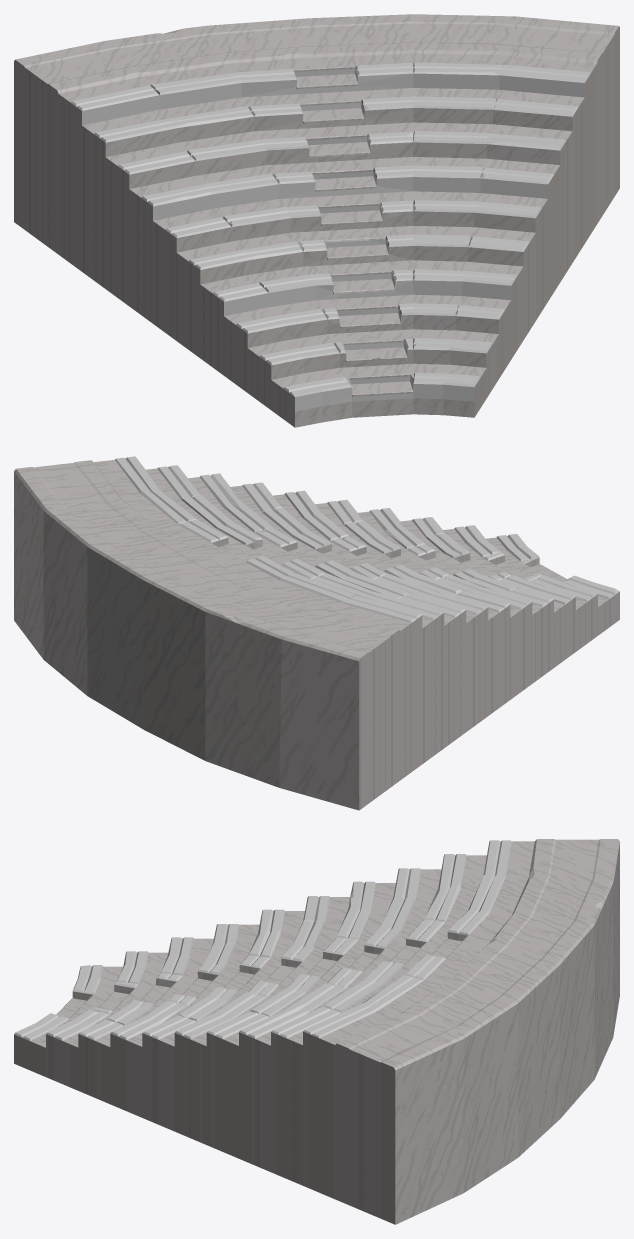
Rendered from SM_Bld_Amphitheatre_01.fbx.
3 renders of one model, top to bottom at view 1: azimuth 30°, elevation 25°; view 2: azimuth 150°, elevation 25°; view 3: azimuth 270°, elevation 25°, orthographic. The views are drawn at different scales.
Parts seen in each view (by area): view 1: SM_Bld_Amphitheatre_01; view 2: SM_Bld_Amphitheatre_01; view 3: SM_Bld_Amphitheatre_01.
Boxes of the visible parts, x1=… form: SM_Bld_Amphitheatre_01: x1=14, y1=14, x2=619, y2=427; SM_Bld_Amphitheatre_01: x1=14, y1=456, x2=619, y2=810; SM_Bld_Amphitheatre_01: x1=14, y1=839, x2=619, y2=1224.
Bounding box in the file's own units: 1591 × 508 × 1779.
